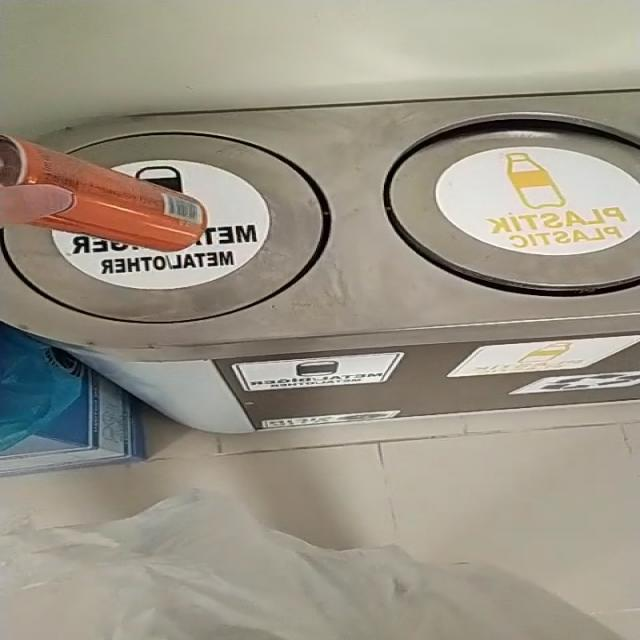Bin: (0, 92, 640, 432)
Metal: (15, 140, 207, 251)
